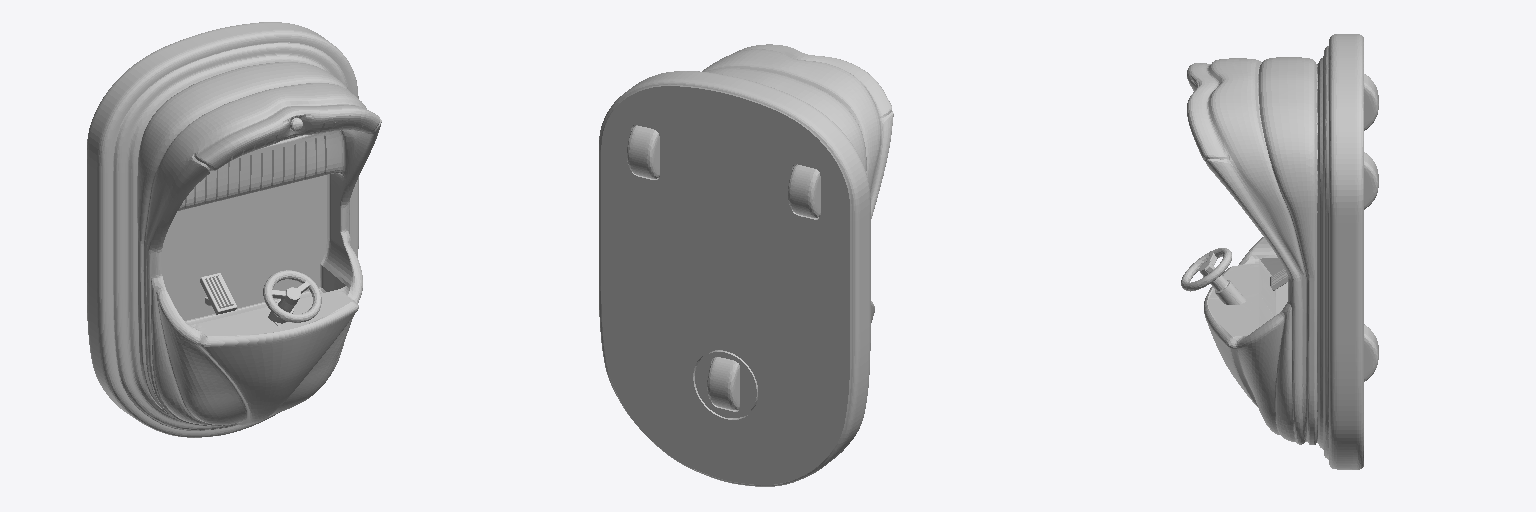
Rendered from coche_1.obj.
The picture shows the model from 3 angles: view 1: azimuth 30°, elevation 25°; view 2: azimuth 150°, elevation 25°; view 3: azimuth 270°, elevation 25°; orthographic projection.
Size of the model in its own units: 98.58 by 143 by 64.84.